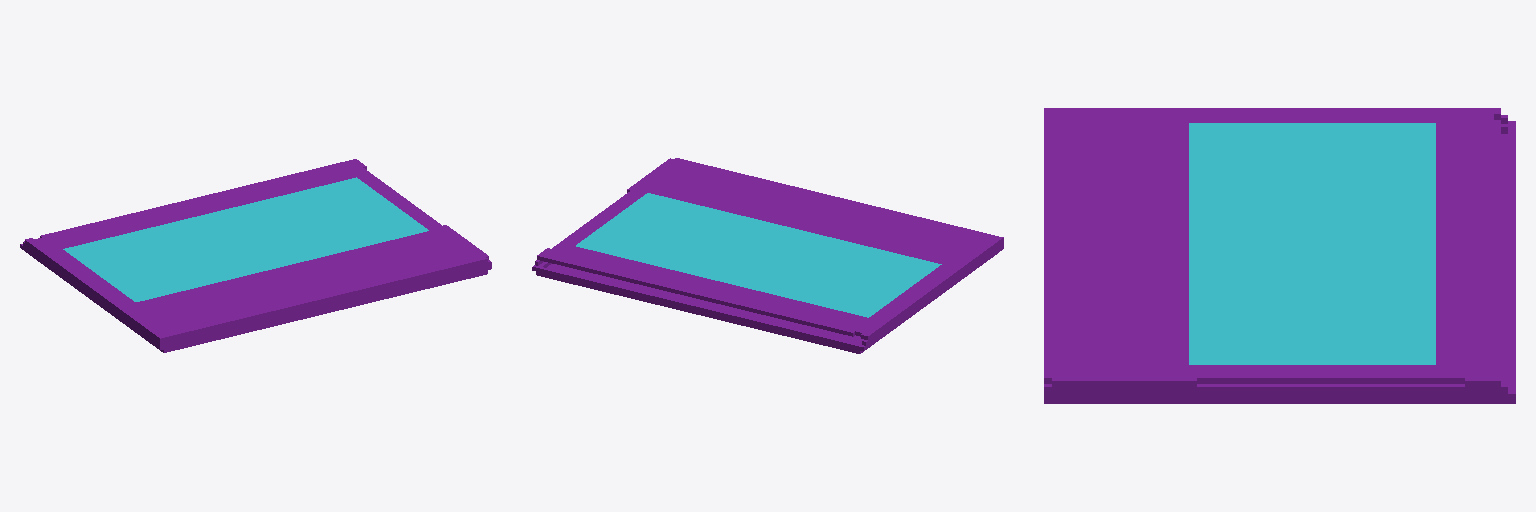
The robot description file, URDF, robot "physxnet_10071_strict":
<?xml version='1.0' encoding='utf-8'?>
<robot name="physxnet_10071_strict">
  <link name="l_world">
    <inertial>
      <origin xyz="0 0 0" rpy="0 0 0" />
      <mass value="0.0100000000" />
      <inertia ixx="0.0000001667" ixy="0.0" ixz="0.0" iyy="0.0000001667" iyz="0.0" izz="0.0000001667" />
    </inertial>
  </link><link name="l_0">
    <inertial>
      <origin xyz="-0.0021155368 0.1247820208 0.0019764216" rpy="0 0 0" />
      <mass value="0.0024463316" />
      <inertia ixx="0.0000072081" ixy="0.0" ixz="0.0" iyy="0.0000279364" iyz="0.0" izz="0.0000207288" />
    </inertial><visual>
      <origin xyz="0 0 0" rpy="0 0 0" />
      <geometry>
        <mesh filename="../rigid_visuals/part_000_visual.obj" scale="1 1 1" />
      </geometry><material name="mat_l_0">
        <color rgba="0.32548 0.48041 0.93131 1.00000" />
      </material>
    </visual><collision>
      <origin xyz="0 0 0" rpy="0 0 0" />
      <geometry>
        <mesh filename="part_000_collision.obj" scale="1 1 1" />
      </geometry>
    </collision>
  </link><joint name="joint_fixed_l_world_l_0" type="fixed">
    <parent link="l_world" />
    <child link="l_0" />
    <origin xyz="0 0 0" rpy="0 0 0" />
  </joint><link name="l_1">
    <inertial>
      <origin xyz="0.0000000000 0.1223141541 0.0000606033" rpy="0 0 0" />
      <mass value="0.0216930254" />
      <inertia ixx="0.0001016167" ixy="0.0" ixz="0.0" iyy="0.0003226835" iyz="0.0" izz="0.0002218324" />
    </inertial><visual>
      <origin xyz="0 0 0" rpy="0 0 0" />
      <geometry>
        <mesh filename="../rigid_visuals/part_001_visual.obj" scale="1 1 1" />
      </geometry><material name="mat_l_1">
        <color rgba="0.15447 0.35718 0.26453 1.00000" />
      </material>
    </visual><collision>
      <origin xyz="0 0 0" rpy="0 0 0" />
      <geometry>
        <mesh filename="part_001_collision.obj" scale="1 1 1" />
      </geometry>
    </collision>
  </link><joint name="joint_fixed_l_0_l_1" type="fixed">
    <parent link="l_0" />
    <child link="l_1" />
    <origin xyz="0 0 0" rpy="0 0 0" />
  </joint><link name="l_2">
    <inertial>
      <origin xyz="0.0000086947 0.0191697324 -0.1080525138" rpy="0 0 0" />
      <mass value="0.0001922509" />
      <inertia ixx="0.0000002729" ixy="0.0" ixz="0.0" iyy="0.0000015867" iyz="0.0" izz="0.0000018595" />
    </inertial><visual>
      <origin xyz="0 0 0" rpy="0 0 0" />
      <geometry>
        <mesh filename="../rigid_visuals/part_002_visual.obj" scale="1 1 1" />
      </geometry><material name="mat_l_2">
        <color rgba="0.29417 0.82410 0.87988 1.00000" />
      </material>
    </visual><collision>
      <origin xyz="0 0 0" rpy="0 0 0" />
      <geometry>
        <mesh filename="part_002_collision.obj" scale="1 1 1" />
      </geometry>
    </collision>
  </link><joint name="joint_fixed_l_1_l_2" type="fixed">
    <parent link="l_1" />
    <child link="l_2" />
    <origin xyz="0 0 0" rpy="0 0 0" />
  </joint><link name="l_3">
    <inertial>
      <origin xyz="0.0000000000 -0.0005369949 -0.1124308781" rpy="0 0 0" />
      <mass value="0.0193540289" />
      <inertia ixx="0.0001076728" ixy="0.0" ixz="0.0" iyy="0.0001978009" iyz="0.0" izz="0.0003050167" />
    </inertial><visual>
      <origin xyz="0 0 0" rpy="0 0 0" />
      <geometry>
        <mesh filename="../rigid_visuals/part_003_visual.obj" scale="1 1 1" />
      </geometry><material name="mat_l_3">
        <color rgba="0.55944 0.19916 0.68114 1.00000" />
      </material>
    </visual><collision>
      <origin xyz="0 0 0" rpy="0 0 0" />
      <geometry>
        <mesh filename="part_003_collision.obj" scale="1 1 1" />
      </geometry>
    </collision>
  </link><joint name="joint_fixed_l_2_l_3" type="fixed">
    <parent link="l_2" />
    <child link="l_3" />
    <origin xyz="0 0 0" rpy="0 0 0" />
  </joint>
</robot>

--- Facts derived from the render (not from the file) ---
Views: 3 orthographic renders of the robot side by side, from view 1: azimuth 30°, elevation 25°; view 2: azimuth 150°, elevation 25°; view 3: azimuth 270°, elevation 25°.
Robot: physxnet_10071_strict — 5 links, 4 joints (4 fixed); root link l_world; default pose: all joints at 0.
Links seen in each view (by area): view 1: l_3, l_2; view 2: l_3, l_2; view 3: l_3, l_2.
Boxes of the visible links, left/top/right/bottom form: l_3: left=20, top=159, right=491, bottom=352; l_2: left=63, top=177, right=428, bottom=301; l_3: left=532, top=158, right=1003, bottom=353; l_2: left=576, top=193, right=941, bottom=317; l_3: left=1044, top=108, right=1515, bottom=403; l_2: left=1189, top=123, right=1435, bottom=364.
Bounding box of the posed robot: 0.356 × 0.26 × 0.016 m (x, y, z).
2 mesh visuals loaded from 4 distinct referenced files (2 OBJ); not drawn: 2 (reference not matched to a file when rendering).
